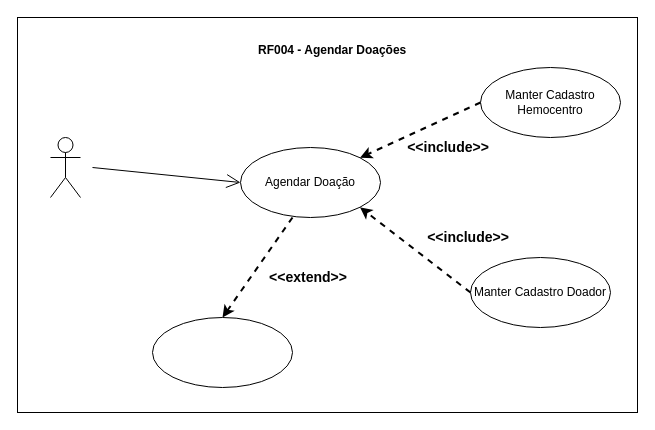
The diagram is 655 pixels wide and 430 high, and some of its shapes have lost their labels. Here are the shapes that lost their labels. From the top down, the box of each, then its label:
(50, 136, 80, 198): Usuário/Doador
(152, 316, 292, 388): Manter Formulário de Pré-Triagem
